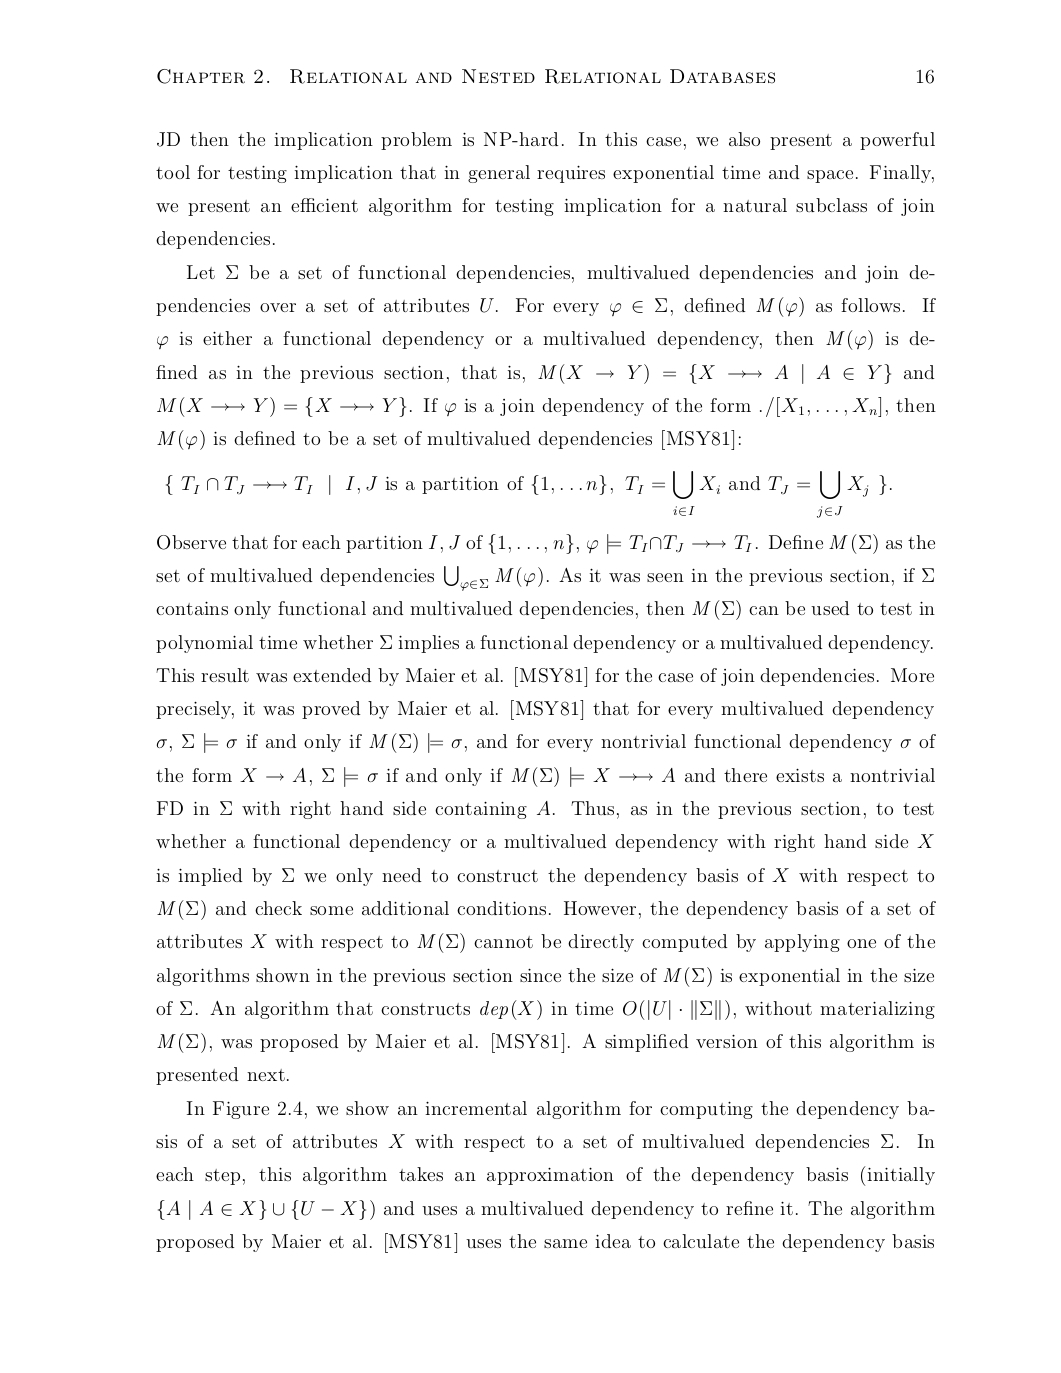formula: (165, 471, 890, 517)
